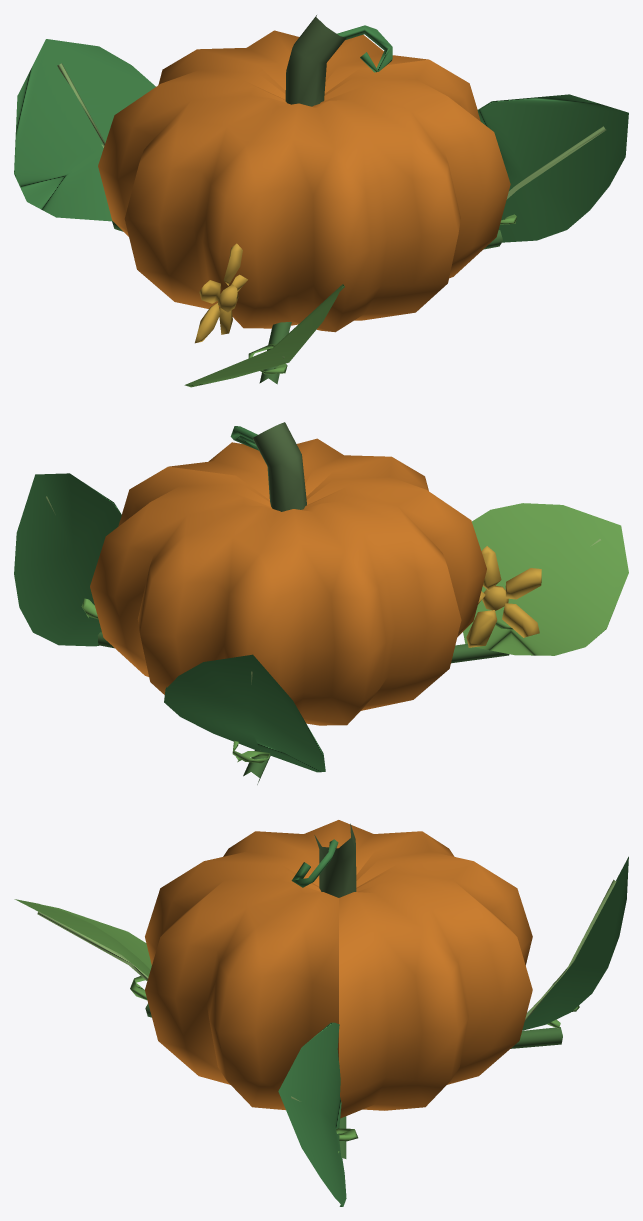
File: calabaza_3_lod.glb
3 renders of one model, top to bottom at view 1: azimuth 30°, elevation 25°; view 2: azimuth 150°, elevation 25°; view 3: azimuth 270°, elevation 25°, orthographic. The views are drawn at different scales.
Parts seen in each view (by area): view 1: calabaza_3_guias_0; view 2: calabaza_3_guias_0; view 3: calabaza_3_guias_0.
Part boxes in pixels (x1,y1,x2,y2): calabaza_3_guias_0: [14, 15, 628, 387]; calabaza_3_guias_0: [14, 422, 628, 784]; calabaza_3_guias_0: [14, 820, 628, 1206].
Bounding box in the file's own units: 0.7667 × 0.3925 × 0.7928.
